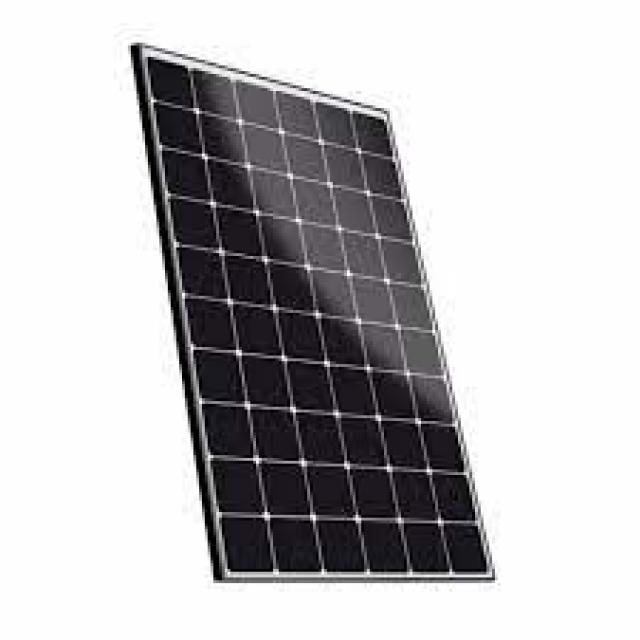no faulty: (144, 54, 484, 572)
